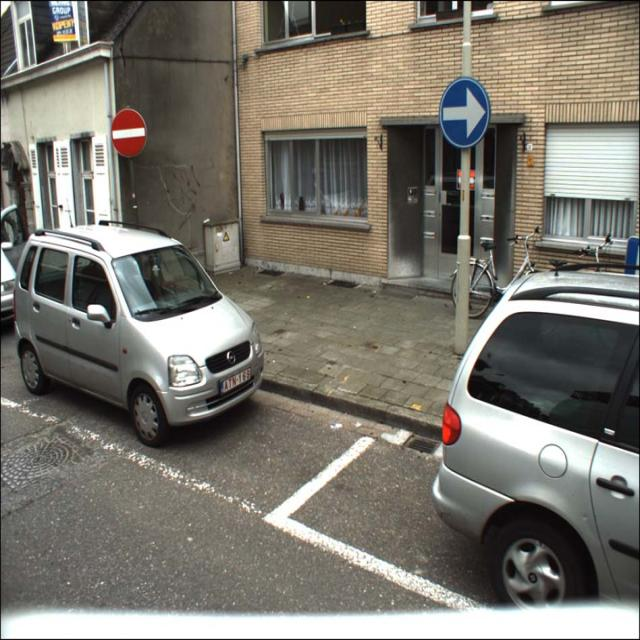girisyok: (110, 110, 146, 158)
sag: (439, 78, 489, 148)
